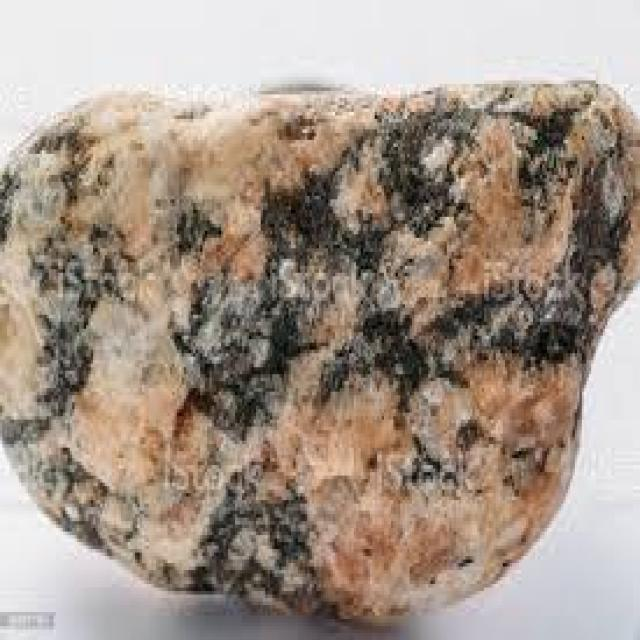Metamorphic: (2, 77, 636, 594)
